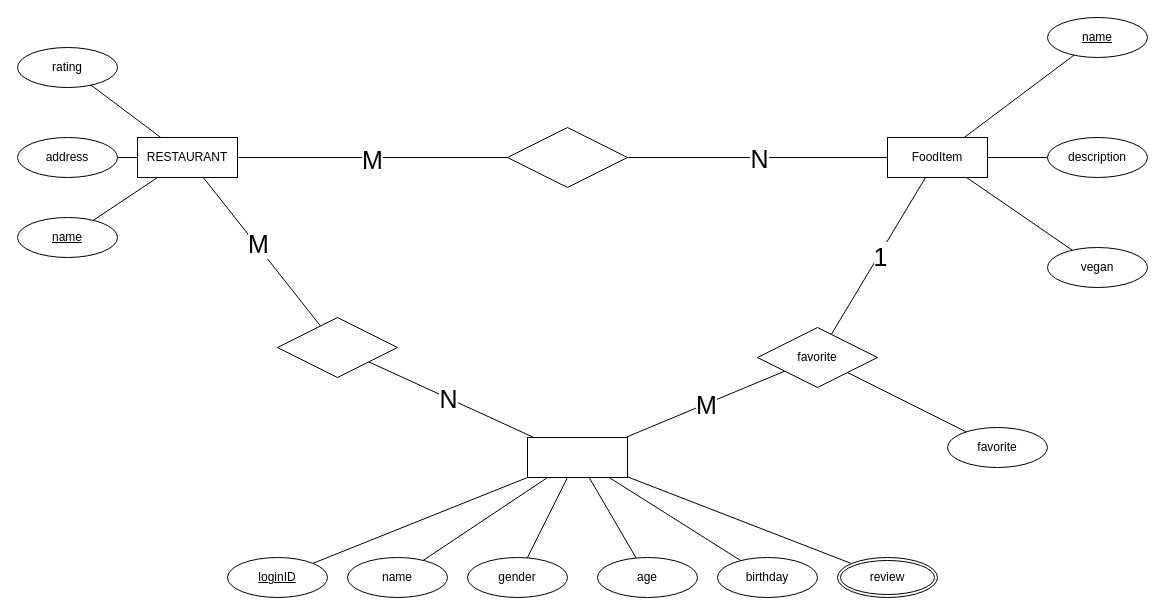
This 1165x615 diagram has some shape labels left out. The centre of each missing label's shape, as x and y in pixels:
Customer: pixel 577 457
has: pixel 567 157
reviewed by: pixel 337 347
